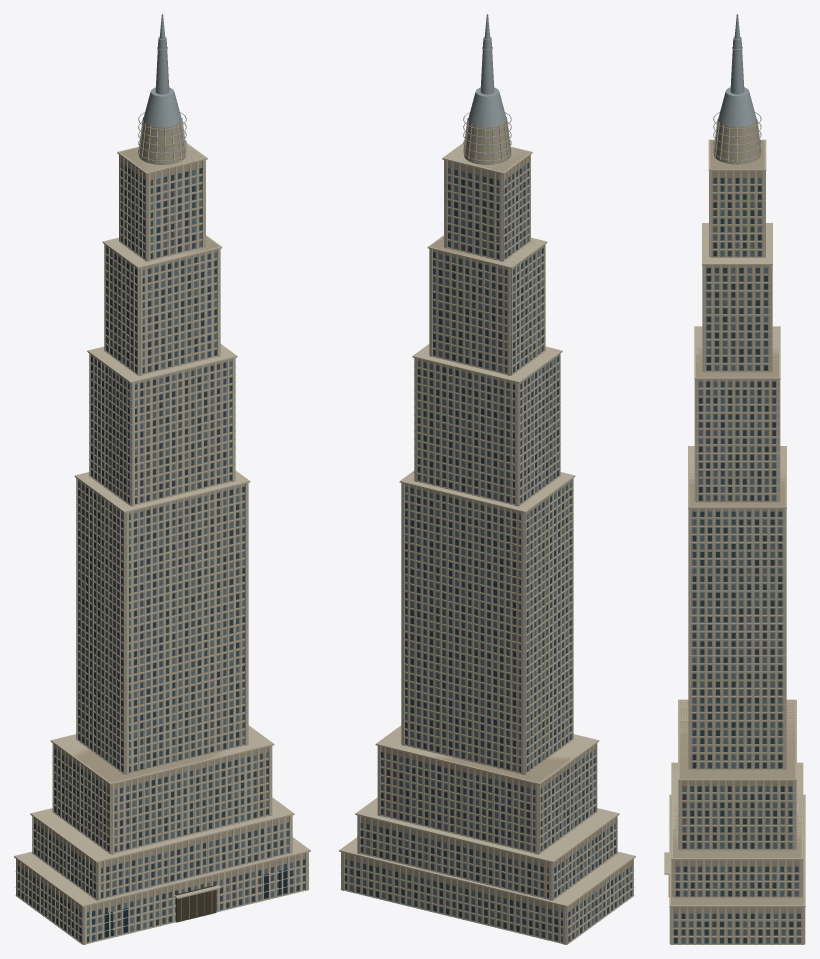
The model's file is landmark-empire-state-high-v2.glb.
The picture shows the model from 3 angles, left to right: view 1: azimuth 30°, elevation 25°; view 2: azimuth 150°, elevation 25°; view 3: azimuth 270°, elevation 25°; orthographic projection.
Parts seen in each view (by area): view 1: Empire State Building; view 2: Empire State Building; view 3: Empire State Building.
Part boxes in pixels (box(x1,y1,x2,y2)): Empire State Building: box(14, 14, 310, 944); Empire State Building: box(339, 14, 635, 944); Empire State Building: box(664, 14, 805, 944).
Size of the model in its own units: 0.272 by 1 by 0.1462.
